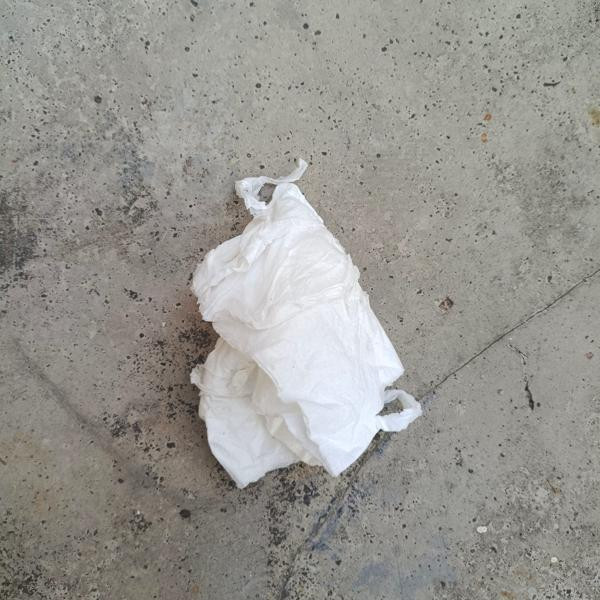Organik: (174, 141, 456, 507)
